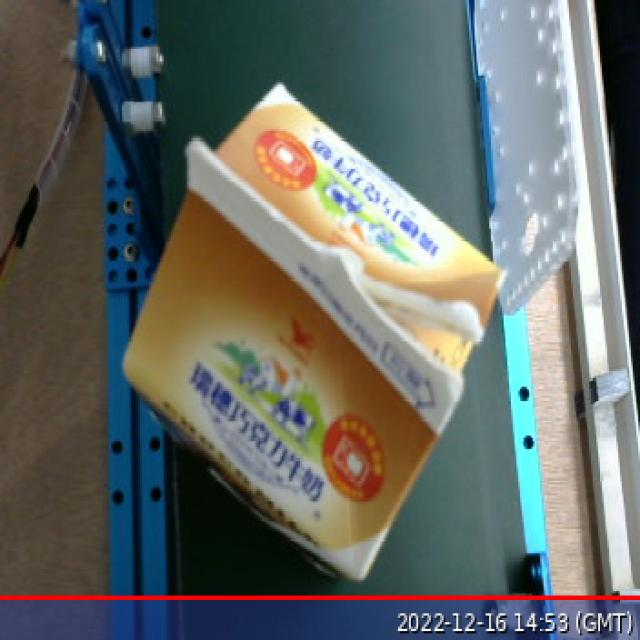non_white_jug: (107, 69, 528, 604)
